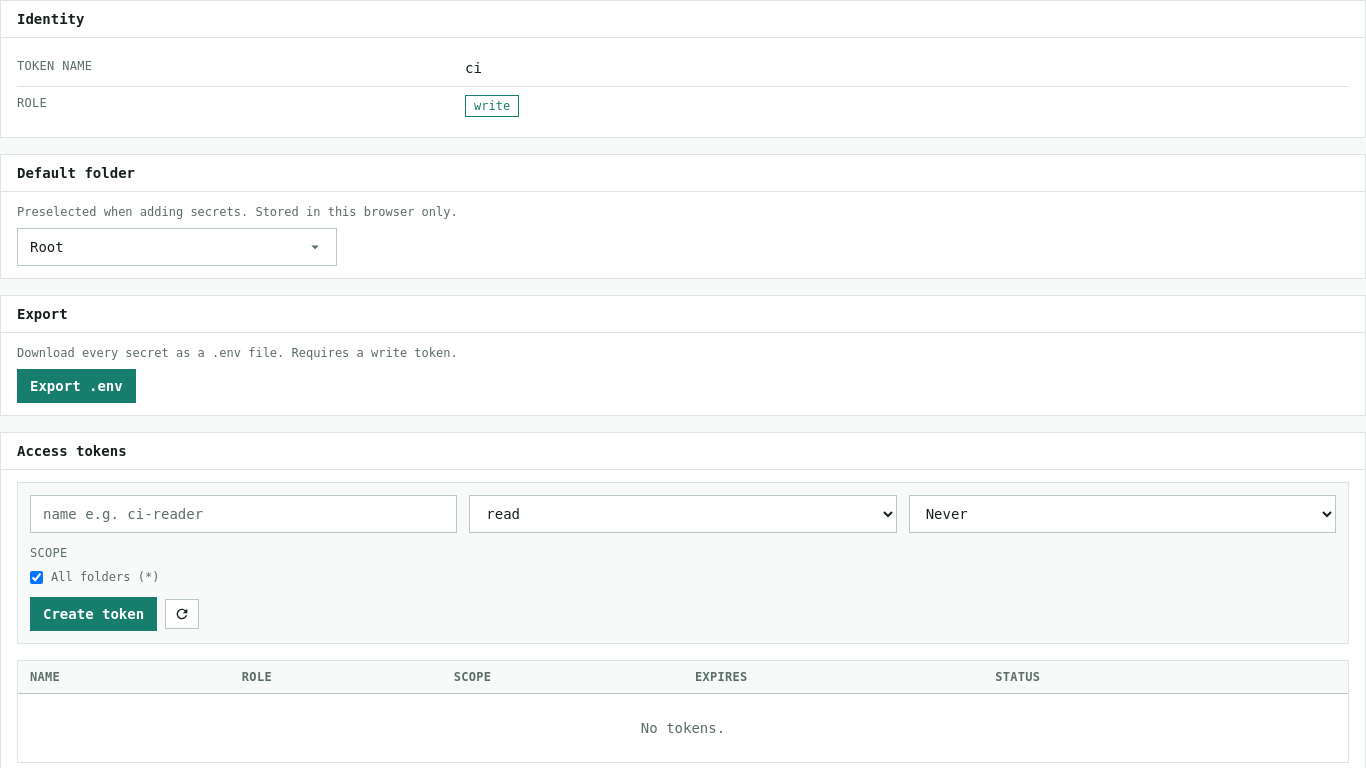
Scenario: Settings create-result modal scope display › shows the granted folder list when the server grants a subset
This screenshot has width=1366, height=768.
In the field with placeholder "name e.g. ci-reader": (244, 514) [30,495,457,533], type "scoped"
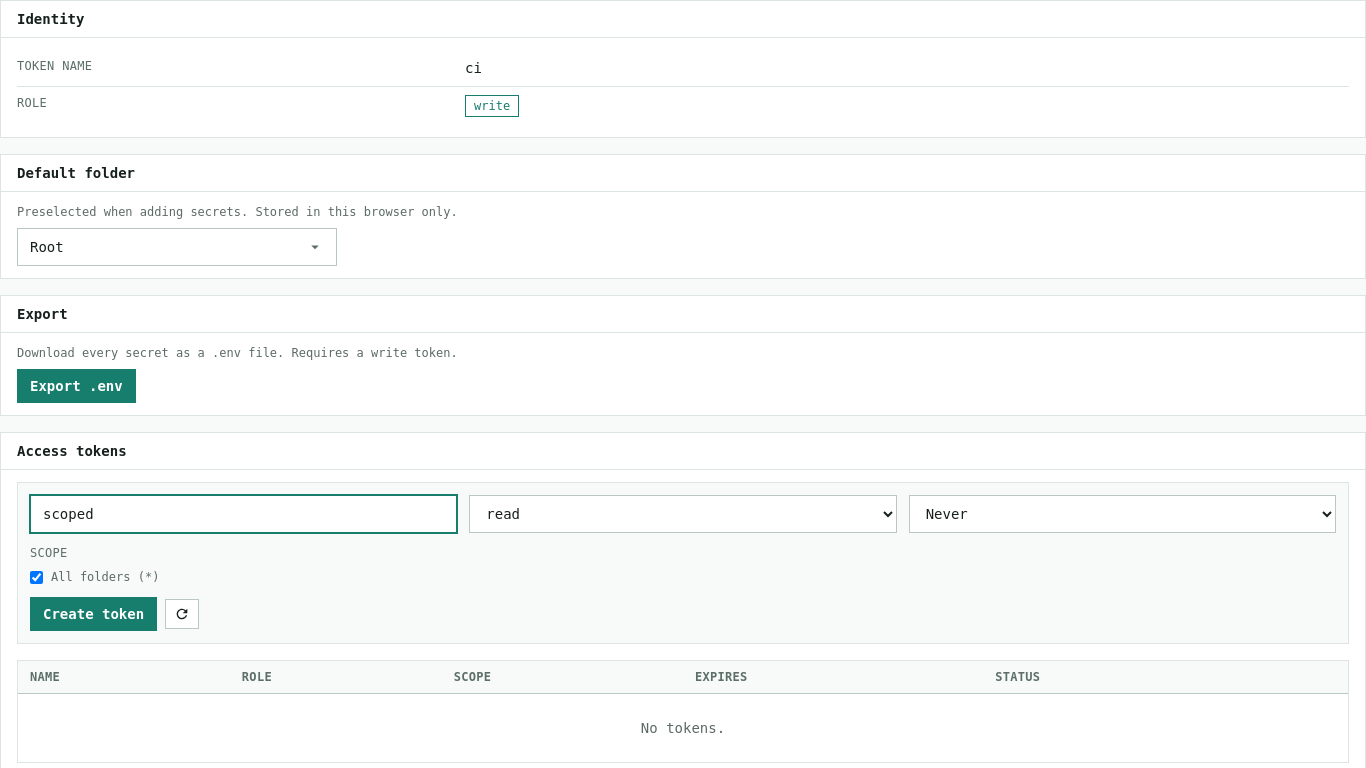
Click the button "Create token": (94, 614) [30,597,157,631]
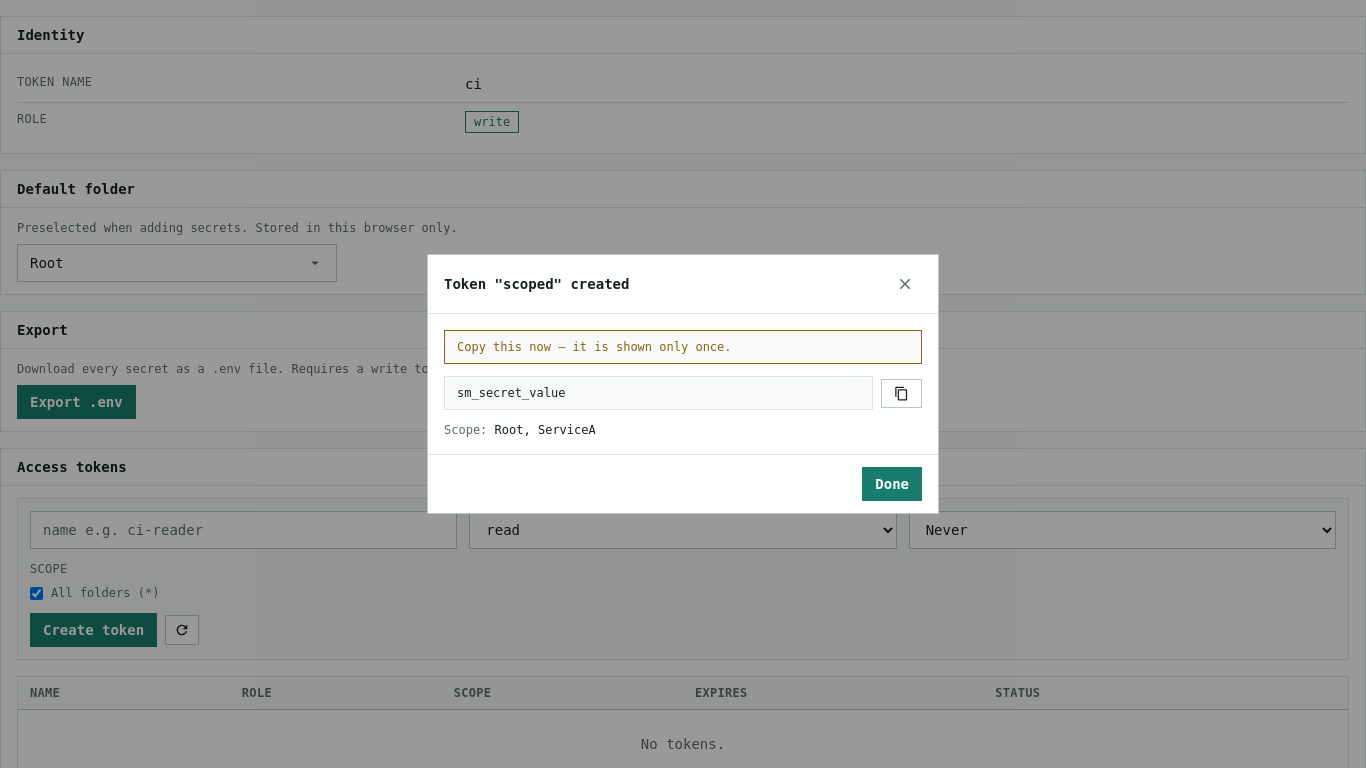
Now the dialog shows "Scope: Root, ServiceA", box [427,254,939,514]
